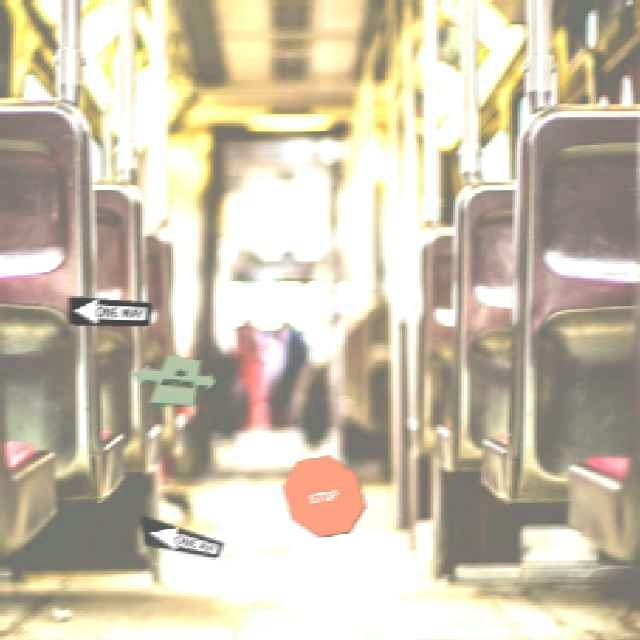GO_AROUND: (132, 351, 216, 403)
ONE_WAY_ left: (139, 511, 223, 556), (67, 293, 151, 324)
STOP: (281, 452, 365, 535)
